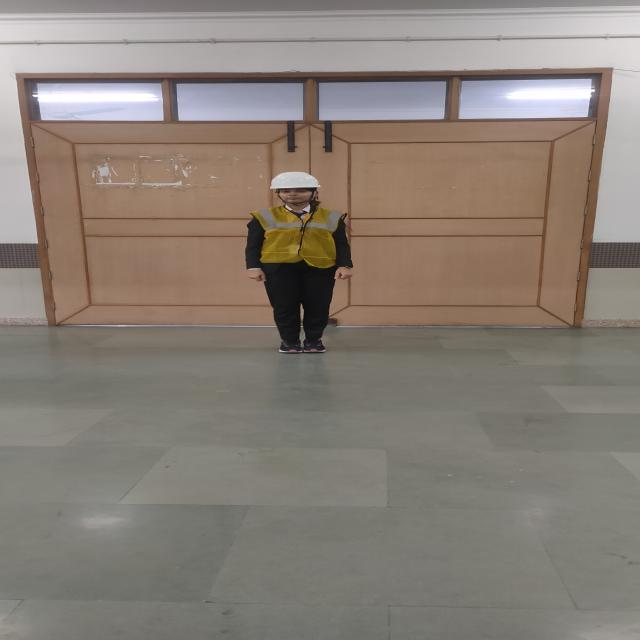safe: (246, 171, 354, 354)
